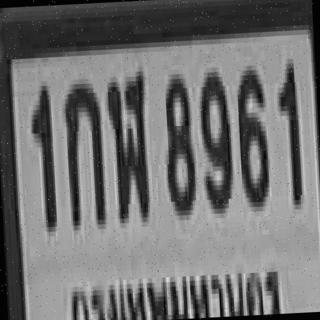A01: (62, 78, 106, 230)
A42: (105, 67, 152, 228)
N01: (29, 84, 56, 231), (276, 60, 302, 206)
N06: (236, 68, 270, 206)
N08: (162, 71, 197, 214)
N09: (198, 70, 234, 212)
